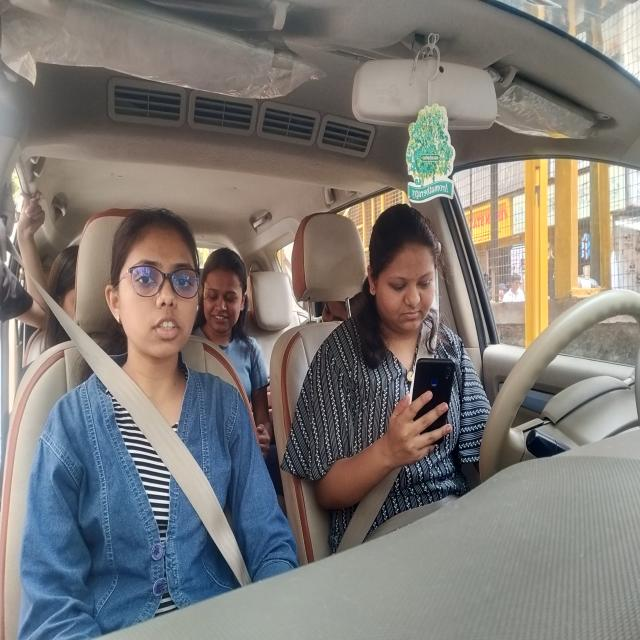mobile: (403, 347, 457, 472)
person: (105, 194, 203, 375), (359, 198, 457, 348), (196, 235, 253, 346), (44, 248, 84, 349)
